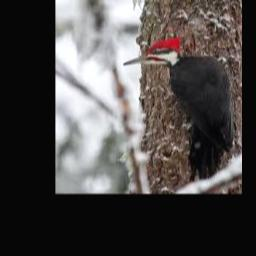Woodpecker: (123, 36, 229, 181)
